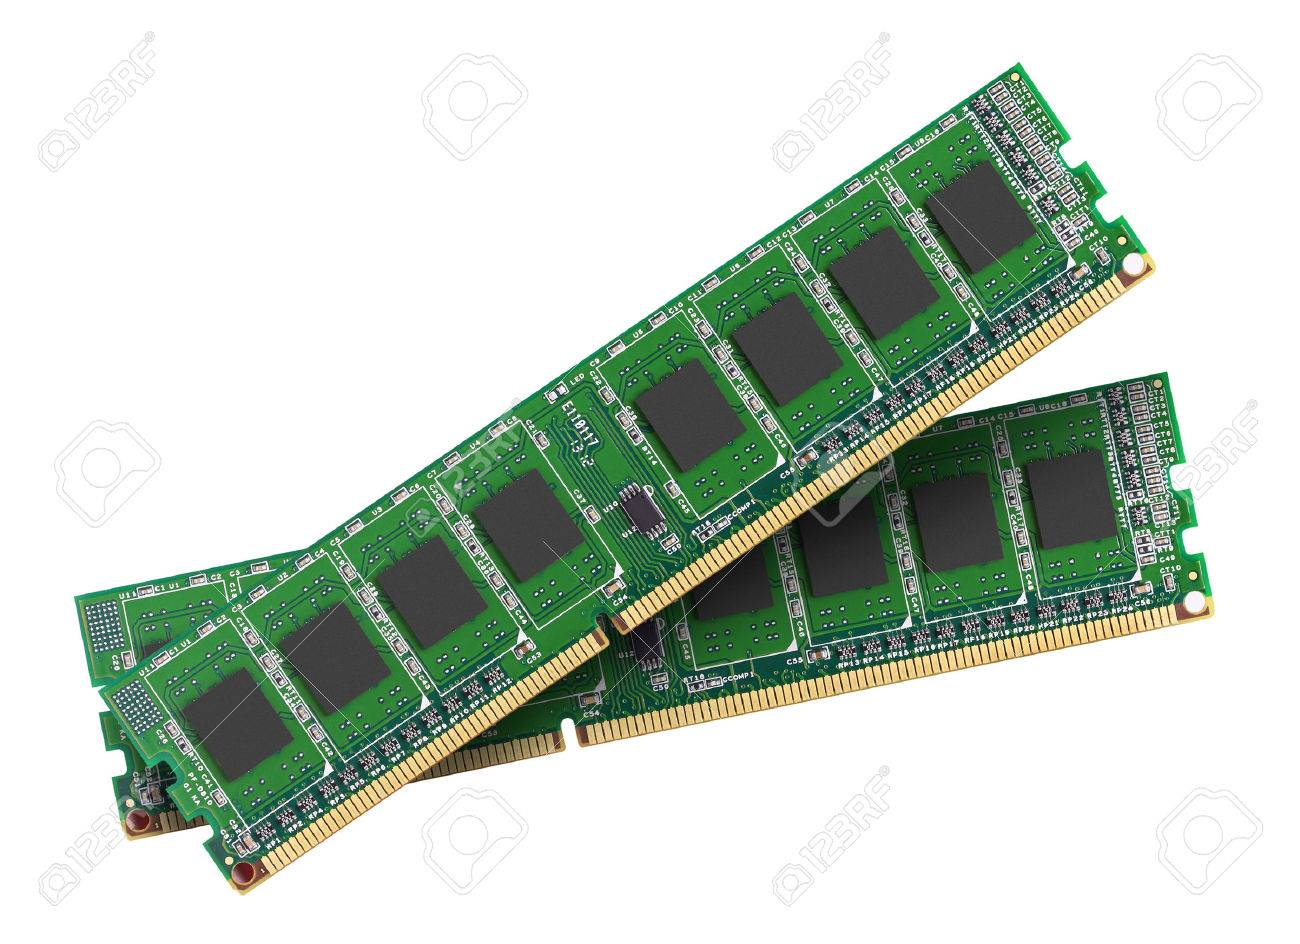Desktop RAM: (69, 50, 1274, 888)
